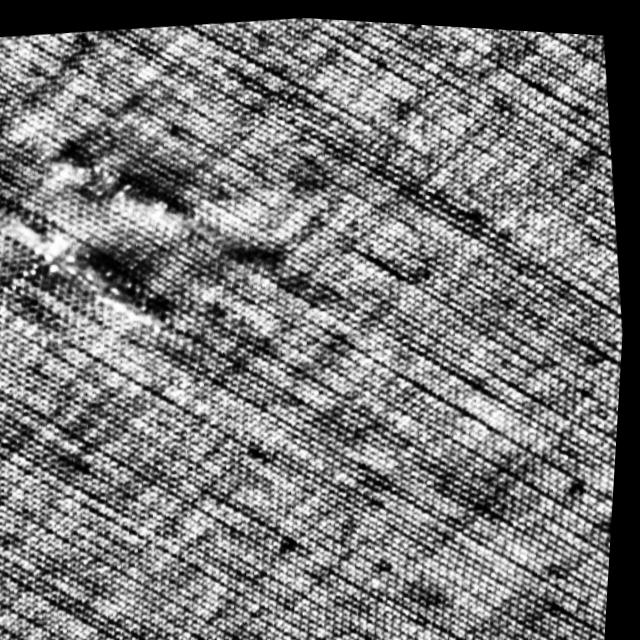Stitch: (0, 172, 197, 354), (6, 120, 160, 229)
